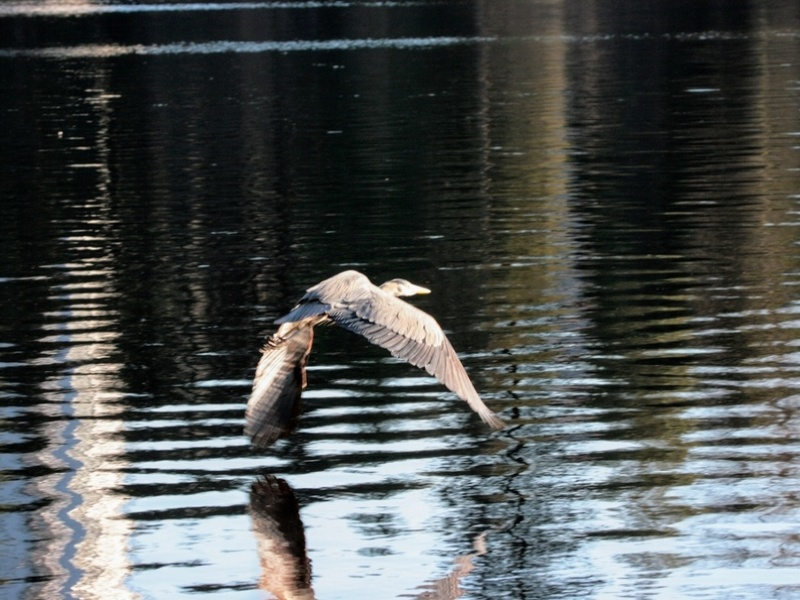heron: (236, 257, 511, 472)
